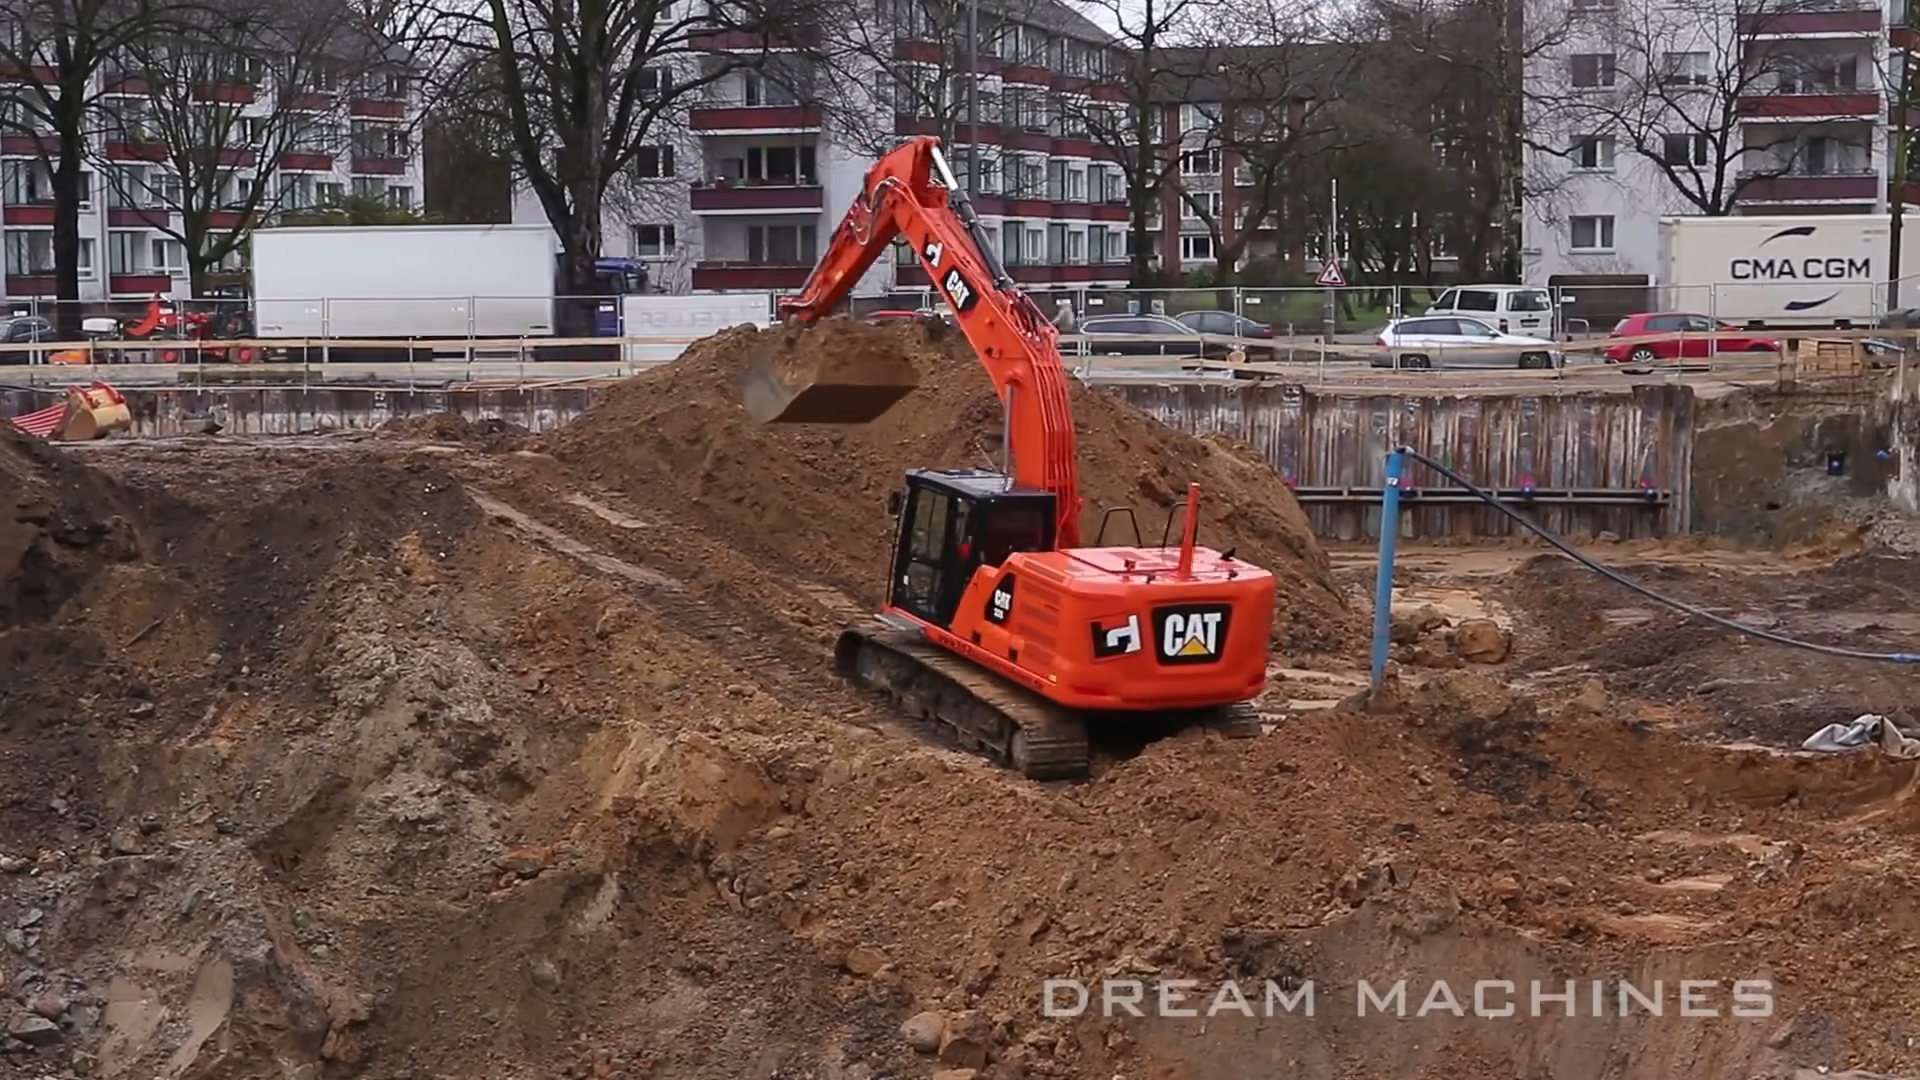excavator: (736, 113, 1321, 802)
